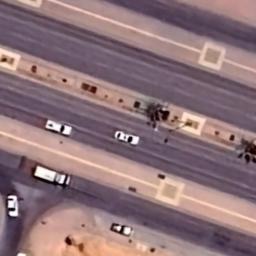SUV: (45, 119, 74, 137)
pickup: (109, 220, 134, 236)
sedan: (112, 128, 142, 146), (5, 193, 21, 218)
truck: (32, 163, 72, 187)
